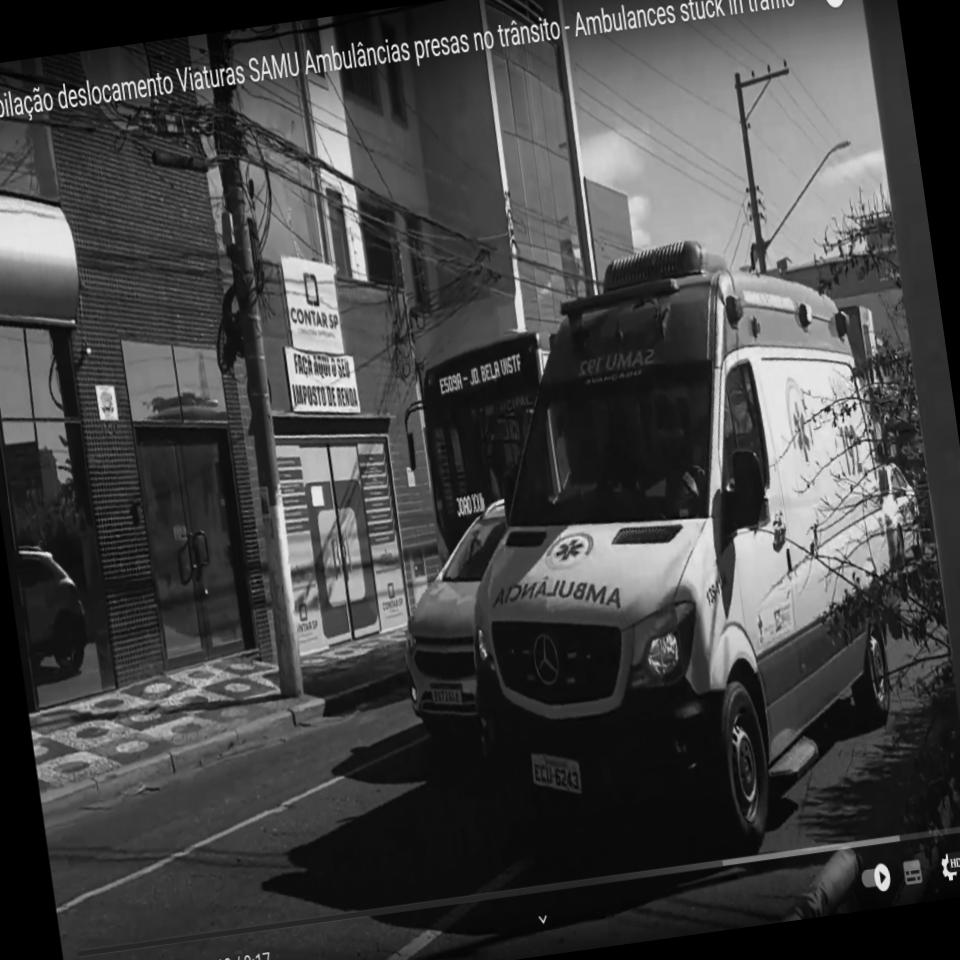bombeiro: (416, 218, 929, 890)
